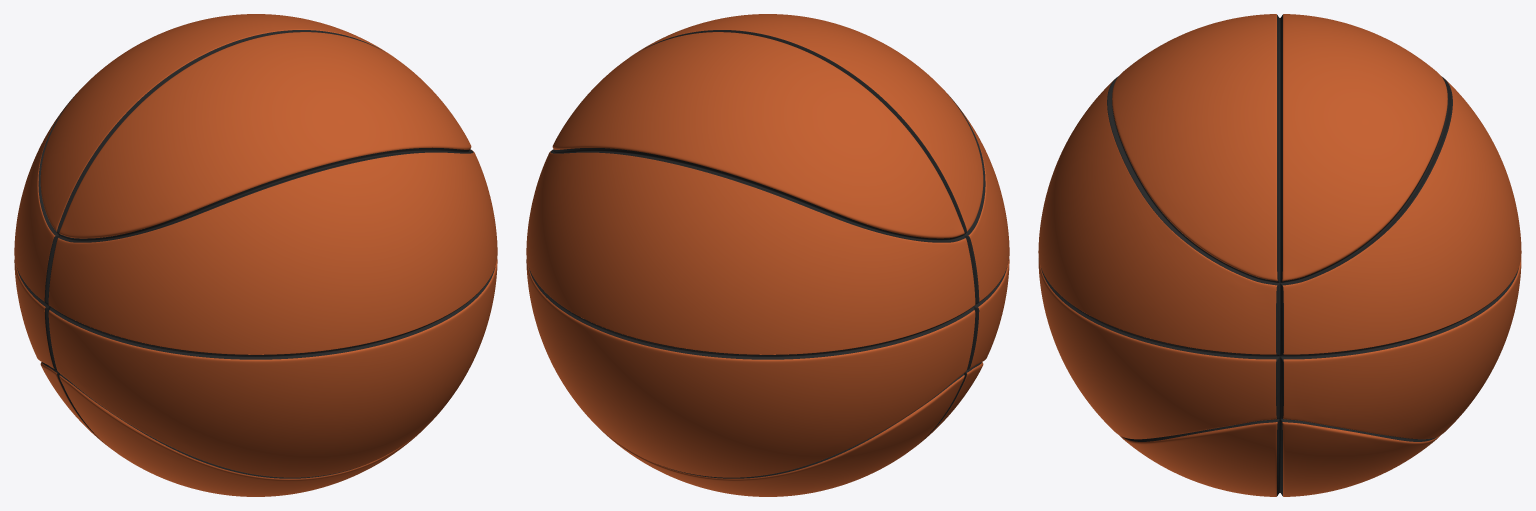
File: Basquete-transformed.glb
The picture shows the model from 3 angles, left to right: view 1: azimuth 30°, elevation 25°; view 2: azimuth 150°, elevation 25°; view 3: azimuth 270°, elevation 25°; orthographic projection.
Parts seen in each view (by area): view 1: basquete; view 2: basquete; view 3: basquete.
Part boxes in pixels (<box>): basquete: <box>14,14,497,496</box>; basquete: <box>526,14,1009,496</box>; basquete: <box>1038,14,1521,496</box>.
Size of the model in its own units: 0.596 by 0.5955 by 0.5957.
